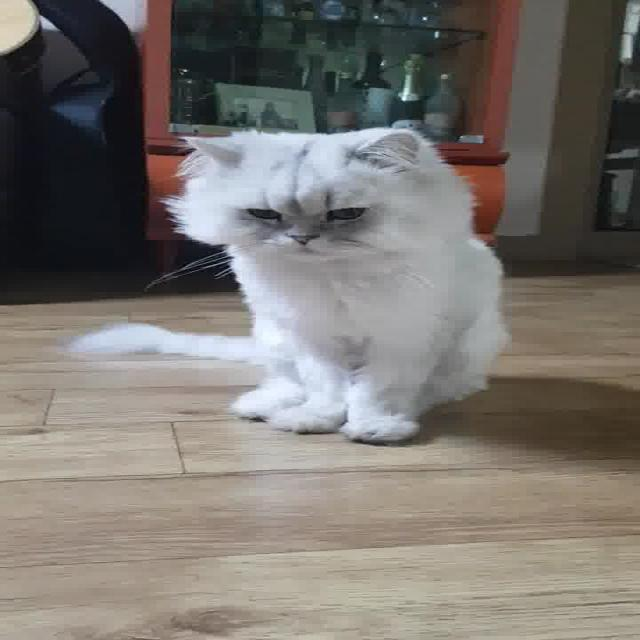cat: (59, 113, 556, 454)
